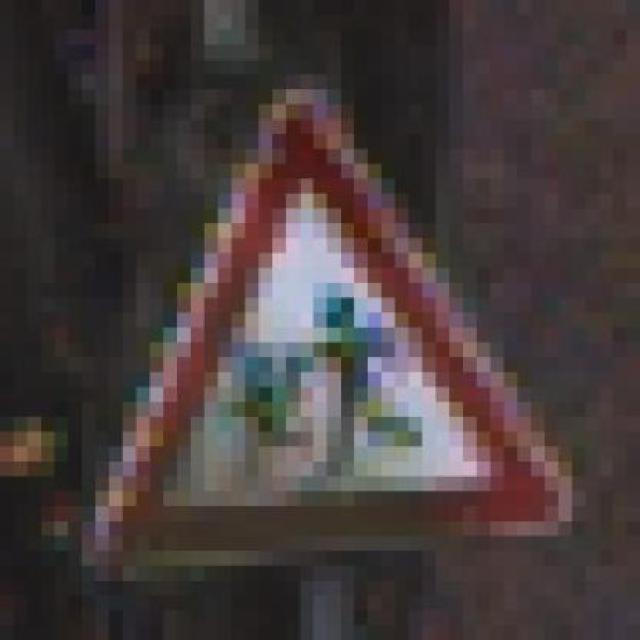Beware of children: (82, 59, 600, 596)
